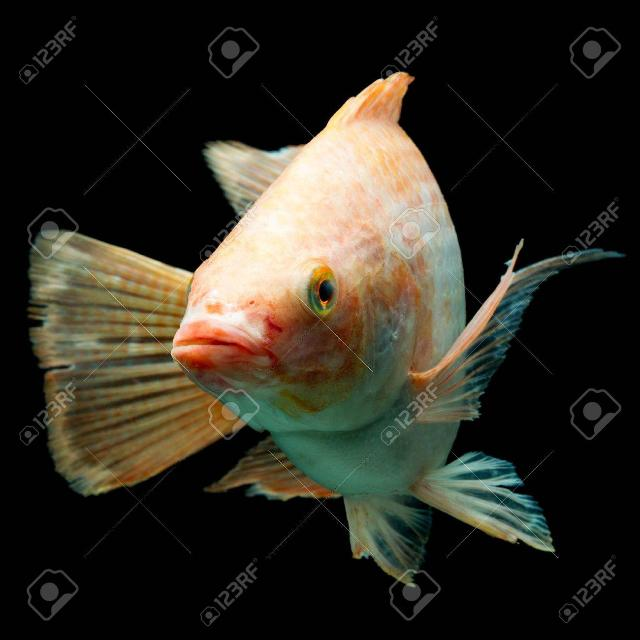Mulut: (152, 315, 292, 385)
Sirip Dada: (398, 223, 630, 441)
Sirip Ekor: (12, 201, 276, 545)
Sirip Perut: (326, 440, 582, 598)
Sirip Punggung: (186, 50, 430, 236)
